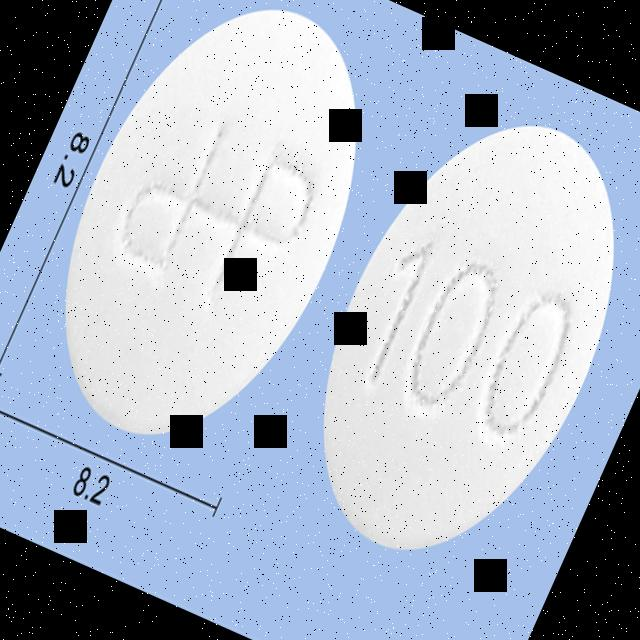Carbastar: (0, 0, 419, 488)
